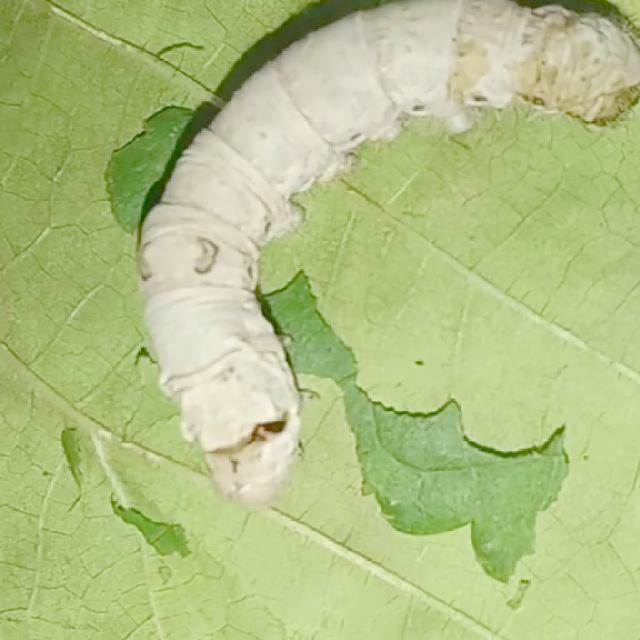Grasserie: (125, 0, 640, 527)
